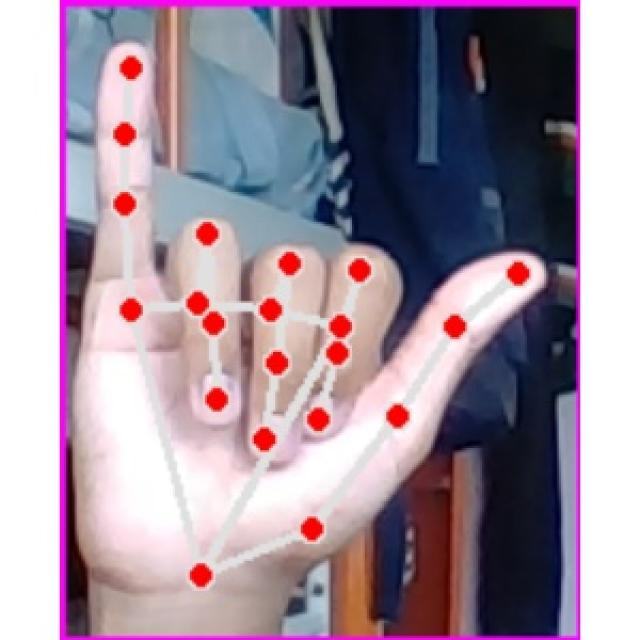Y: (78, 28, 554, 615)
